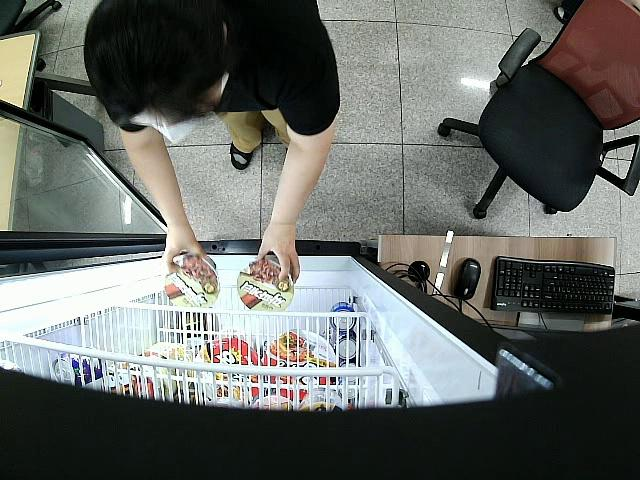00_hand: (258, 229, 300, 285), (163, 229, 208, 272)
03_chapagetti_L: (237, 257, 295, 311), (165, 253, 218, 309)
